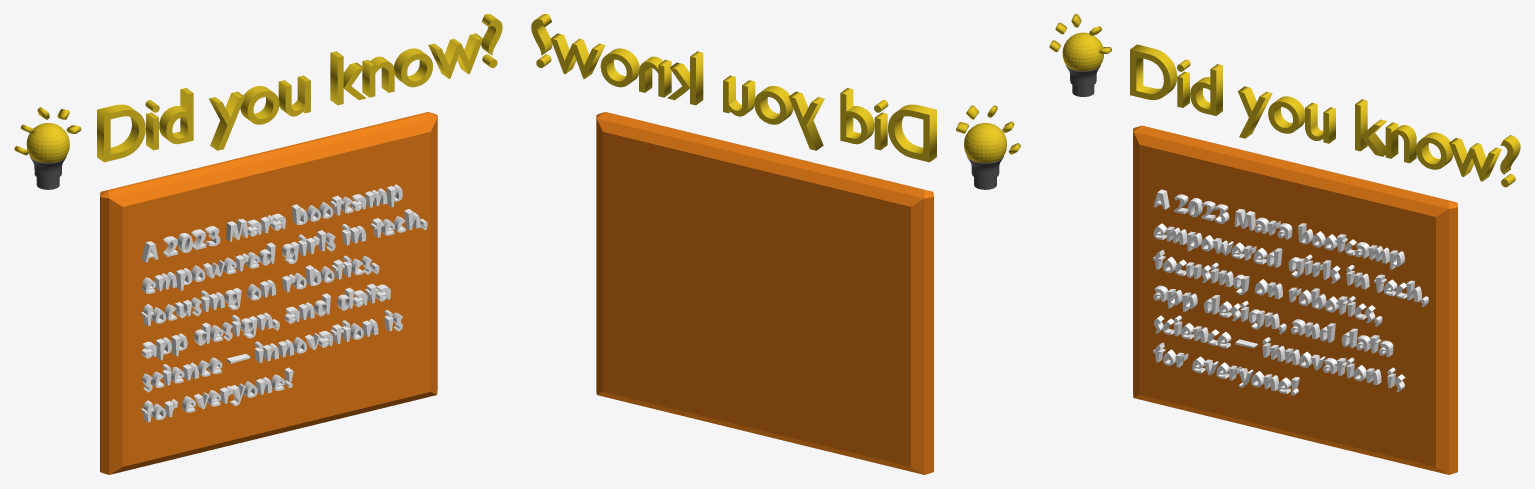
File: did you know fact05.glb
3 views of the same model, side by side, from view 1: azimuth 30°, elevation 25°; view 2: azimuth 150°, elevation 25°; view 3: azimuth 330°, elevation 25° (orthographic). The views are drawn at different scales.
Parts seen in each view (by area): view 1: QnSlab, Curve.006, Text, bulb; view 2: QnSlab, Text, bulb; view 3: QnSlab, Curve.006, Text, bulb.
Boxes of the visible parts, x1,y1,x2,y2 form: QnSlab: (100, 112, 437, 474); Curve.006: (141, 184, 427, 422); Text: (97, 14, 502, 162); bulb: (26, 123, 69, 189); QnSlab: (596, 112, 933, 474); Text: (531, 14, 936, 162); bulb: (964, 123, 1006, 189); QnSlab: (1133, 125, 1457, 474); Curve.006: (1153, 189, 1428, 395); Text: (1130, 44, 1520, 187); bulb: (1062, 32, 1103, 96).
Size of the model in its own units: 0.6399 by 0.484 by 0.0531.
